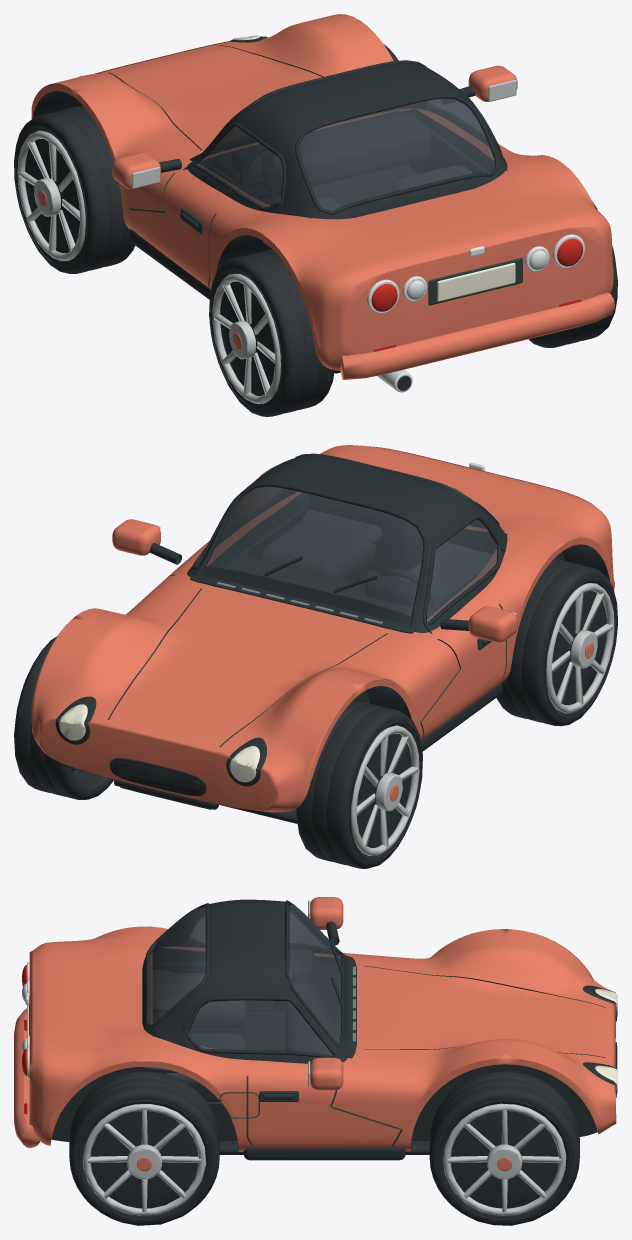
File: chibi_lod1.fbx
The picture shows the model from 3 angles, top to bottom: view 1: azimuth 30°, elevation 25°; view 2: azimuth 150°, elevation 25°; view 3: azimuth 270°, elevation 25°; orthographic projection. The views are drawn at different scales.
Visible parts, largest first — view 1: Body, Wheel_FL_Mesh, Wheel_RL_Mesh, Wheel_RR_Mesh; view 2: Body, Wheel_FL_Mesh, Wheel_RL_Mesh, Wheel_FR_Mesh; view 3: Body, Wheel_FR_Mesh, Wheel_RR_Mesh.
Boxes of the visible parts, bbox=[...] form: Body: bbox=[31, 14, 614, 392]; Wheel_FL_Mesh: bbox=[14, 106, 135, 273]; Wheel_RL_Mesh: bbox=[209, 249, 334, 416]; Wheel_RR_Mesh: bbox=[529, 201, 617, 347]; Body: bbox=[31, 445, 614, 823]; Wheel_FL_Mesh: bbox=[296, 700, 422, 868]; Wheel_RL_Mesh: bbox=[496, 558, 617, 726]; Wheel_FR_Mesh: bbox=[14, 636, 114, 799]; Body: bbox=[14, 897, 617, 1160]; Wheel_FR_Mesh: bbox=[429, 1071, 579, 1225]; Wheel_RR_Mesh: bbox=[69, 1071, 219, 1225].
Bounding box in the file's own units: 212 × 125 × 305.
